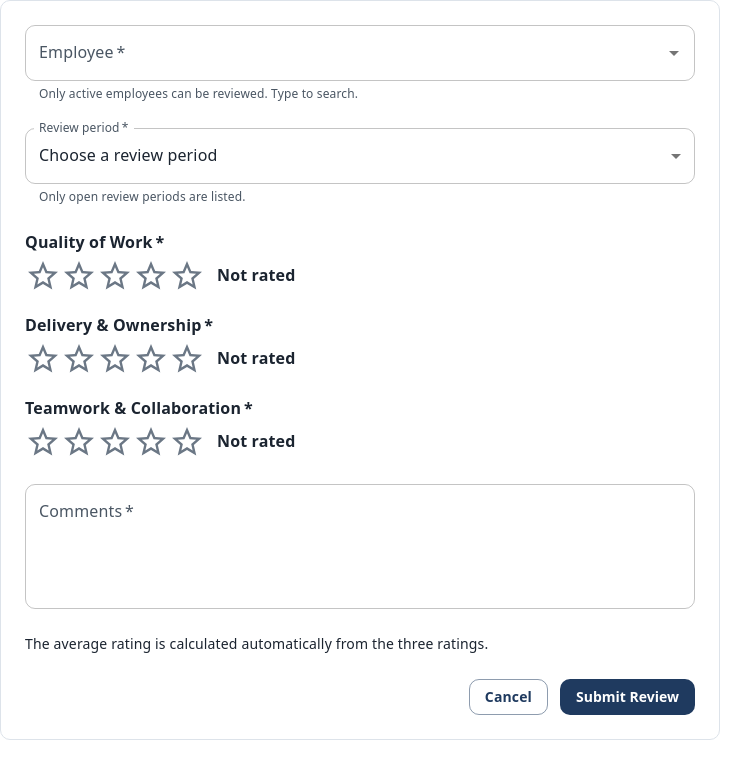
it: SubmitReviewForm: choosing an employee and a period › chooses an employee with the keyboard
Type "sam" into the dropdown labelled "Employee *" at (345,53), box [34,34,656,72]
Then press Enter
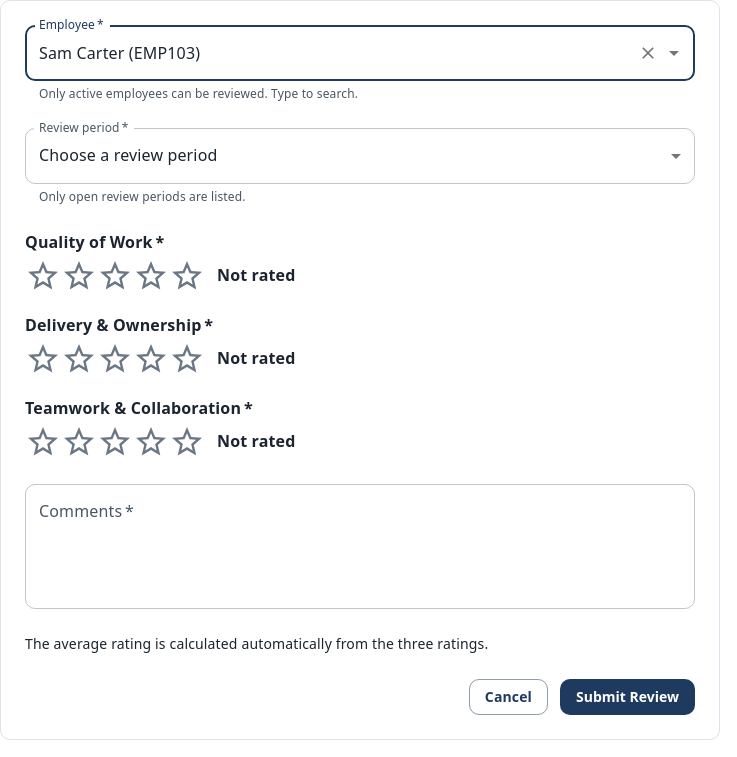
expect the dropdown labelled "Employee *" holds "Sam Carter (EMP103)": met, box [34,34,630,72]
